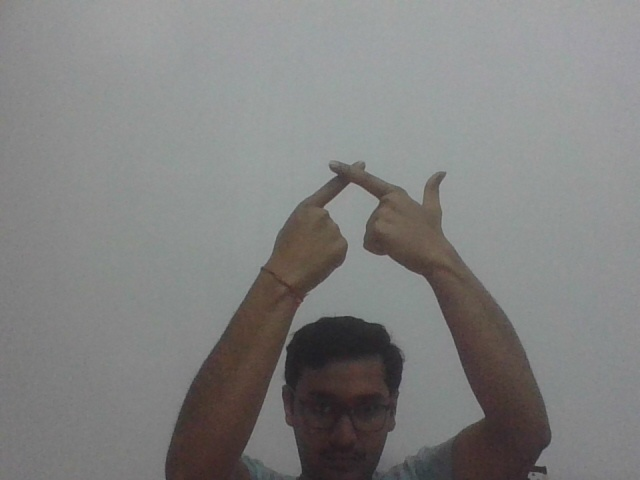J: (287, 158, 451, 282)
